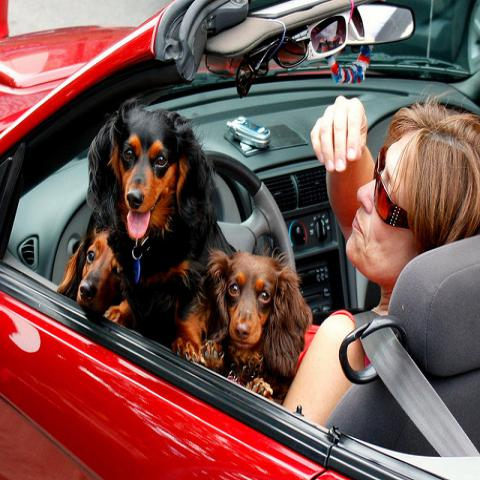car: (2, 7, 479, 467)
